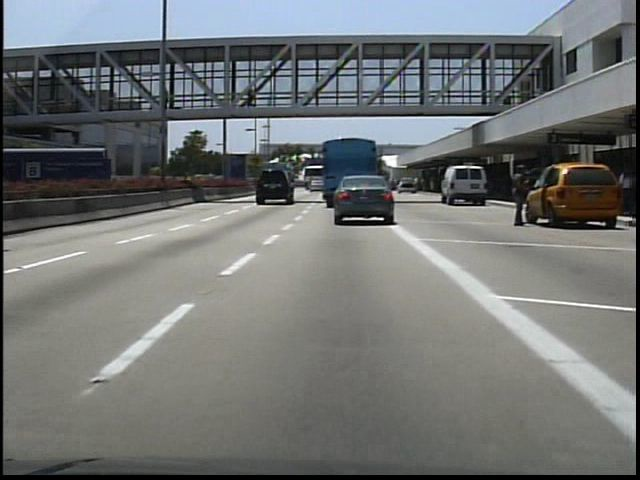person: (509, 162, 535, 227), (244, 83, 260, 115), (160, 85, 175, 112)
